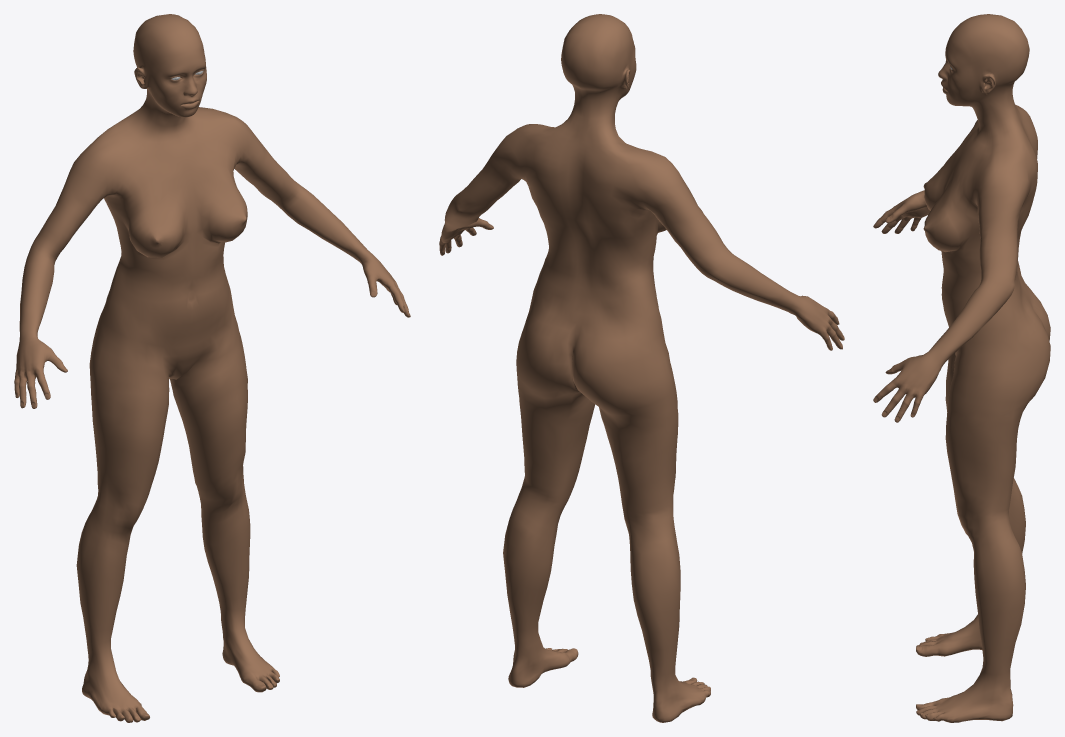
File: female_data.obj
The picture shows the model from 3 angles, left to right: view 1: azimuth 30°, elevation 25°; view 2: azimuth 150°, elevation 25°; view 3: azimuth 270°, elevation 25°; orthographic projection. The views are drawn at different scales.
Parts seen in each view (by area): view 1: base.obj; view 2: base.obj; view 3: base.obj.
Boxes of the visible parts, box(x1,y1,x2,y2) form: base.obj: box(14, 14, 410, 722); base.obj: box(439, 14, 844, 722); base.obj: box(873, 14, 1050, 722).
Bounding box in the file's own units: 0.9708 × 1.59 × 0.3834.
